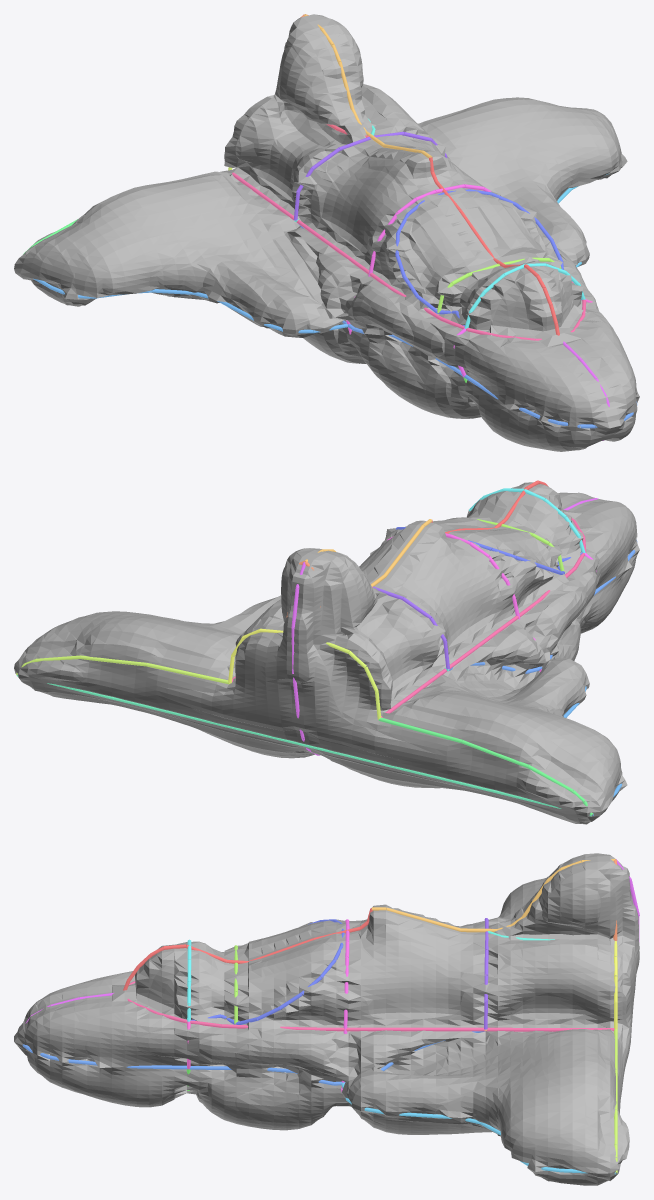
Rendered from t2f_fighter.gltf.
3 views of the same model, one above another, from view 1: azimuth 30°, elevation 25°; view 2: azimuth 150°, elevation 25°; view 3: azimuth 270°, elevation 25° (orthographic). The views are drawn at different scales.
Size of the model in its own units: 0.7117 by 0.2942 by 0.6767.
